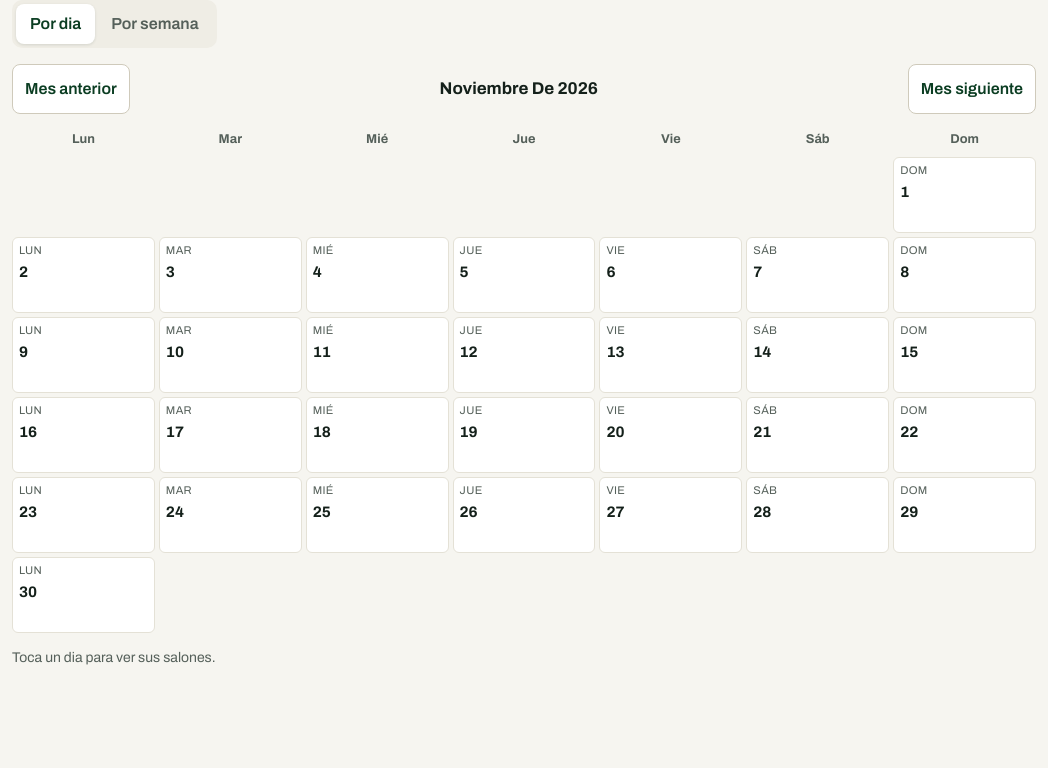
Scenario: Consultas por calendario › por dia es el modo por defecto: al tocar un dia pasa a los salones con bloques y tomados
Step 1. Click the cell "Dom 1" → (965, 195), box [893,157,1036,233]
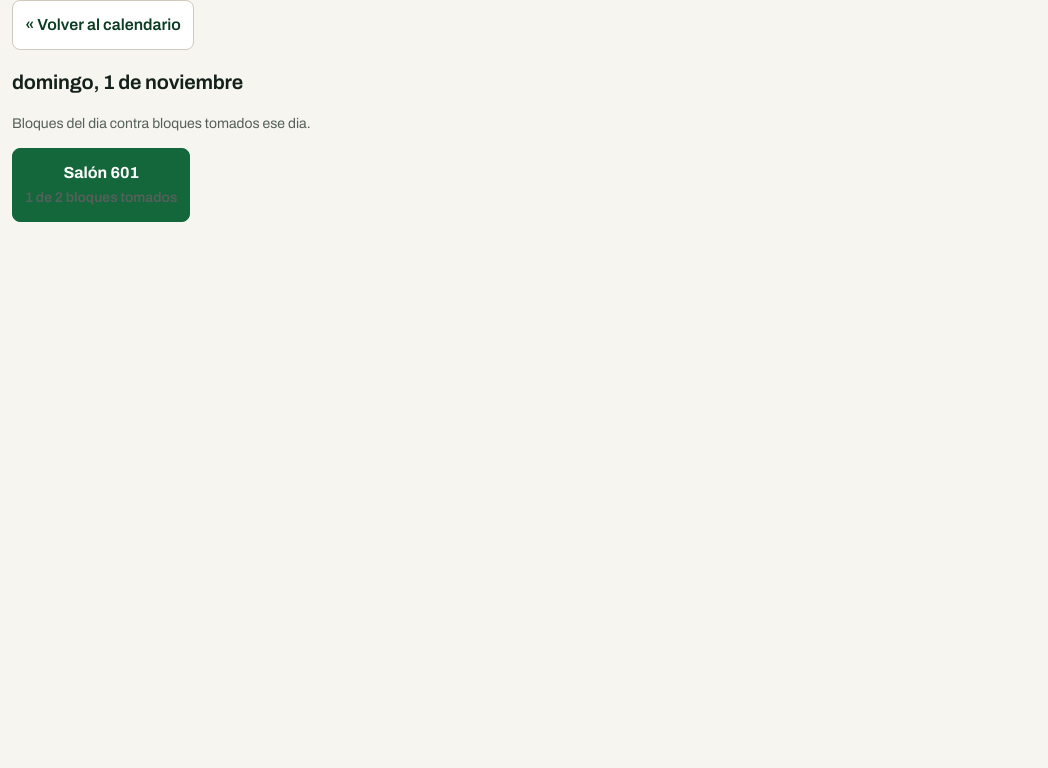
Now the button "Salón 601 1 de 2 bloques tomados" is shown, box [12,148,190,222]
